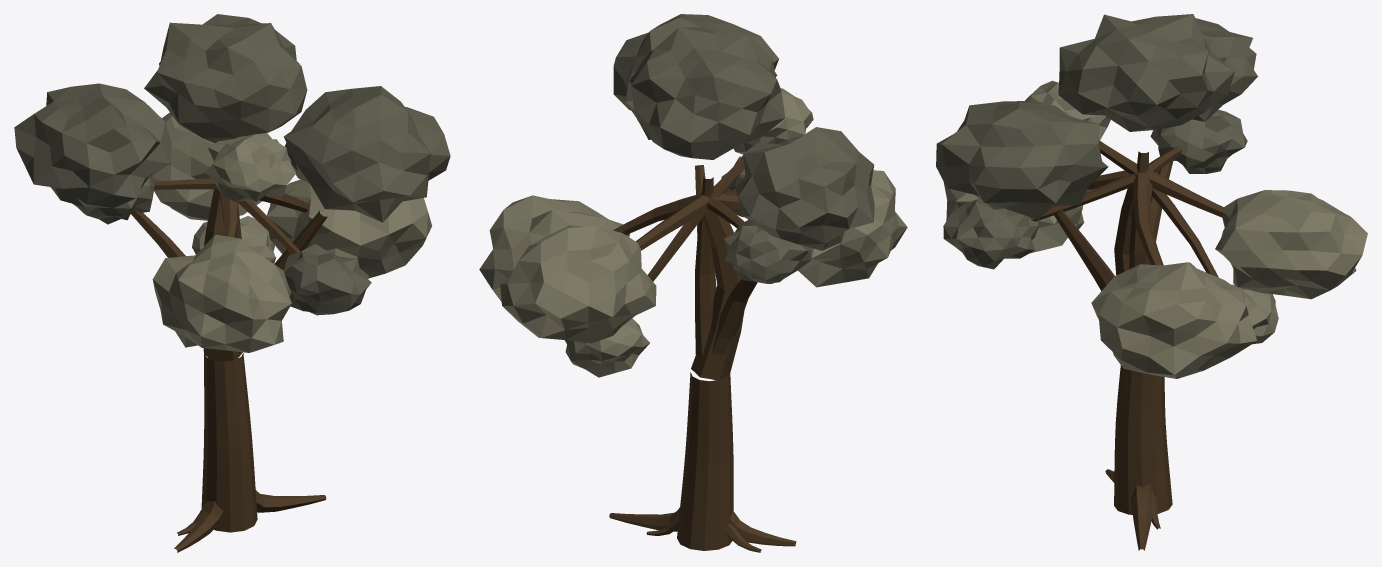
Rendered from oak-ash-a.glb.
3 renders of one model, left to right at view 1: azimuth 30°, elevation 25°; view 2: azimuth 150°, elevation 25°; view 3: azimuth 270°, elevation 25°, orthographic. The views are drawn at different scales.
Parts seen in each view (by area): view 1: Body_Leaves2, Body_Leaves, Body_Bark; view 2: Body_Leaves2, Body_Leaves, Body_Bark; view 3: Body_Leaves2, Body_Leaves, Body_Bark.
Part boxes in pixels (x1,y1,x2,y2): Body_Leaves2: [14, 14, 450, 315]; Body_Leaves: [150, 112, 431, 352]; Body_Bark: [131, 178, 327, 552]; Body_Leaves2: [613, 14, 874, 283]; Body_Leaves: [479, 88, 907, 377]; Body_Bark: [609, 155, 796, 552]; Body_Leaves2: [936, 14, 1257, 269]; Body_Leaves: [943, 80, 1367, 378]; Body_Bark: [1029, 140, 1223, 550].
Bounding box in the file's own units: 10 × 12.4 × 10.
